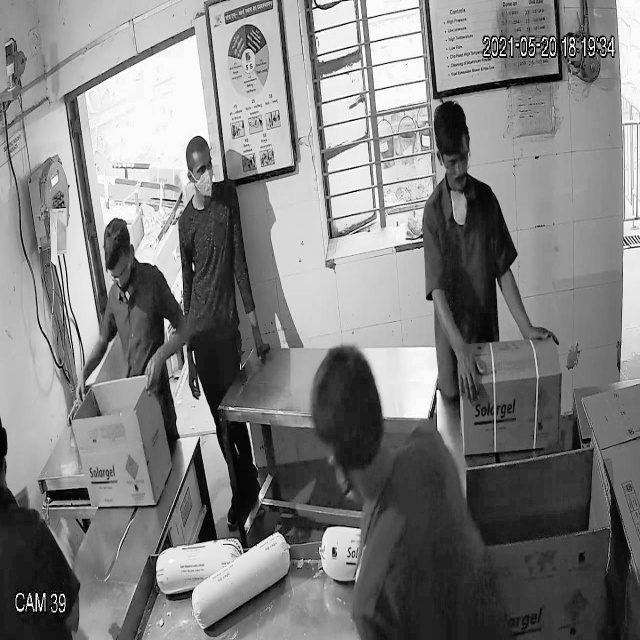Sin_gafas: (184, 158, 217, 180)
